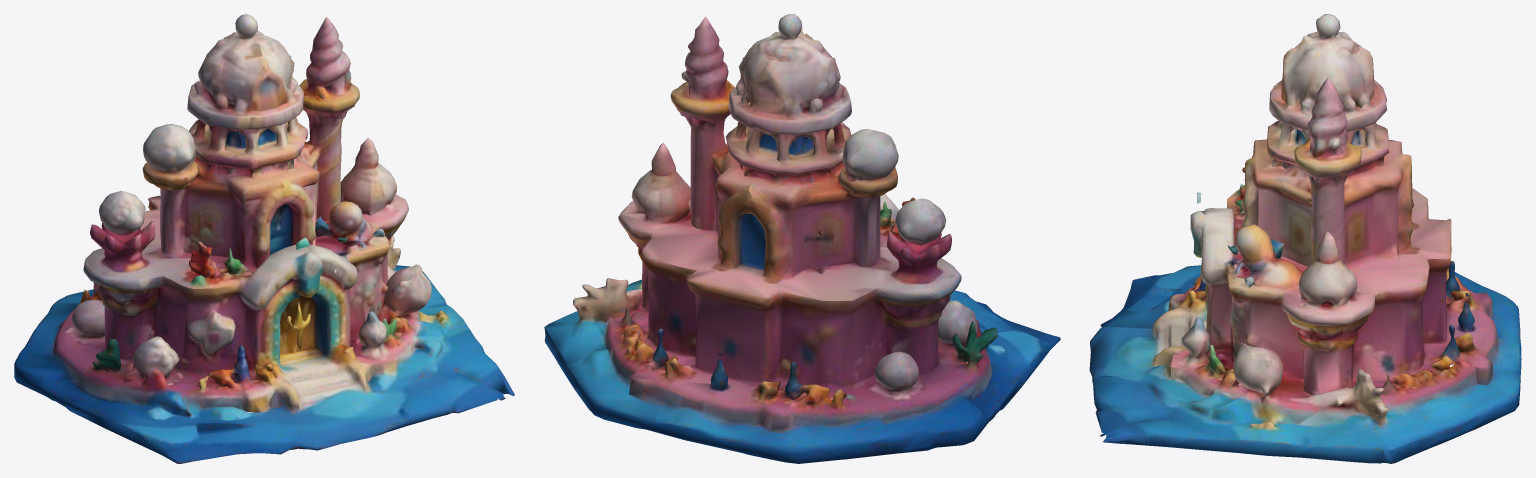
File: seapalace.glb
The picture shows the model from 3 angles, left to right: view 1: azimuth 30°, elevation 25°; view 2: azimuth 150°, elevation 25°; view 3: azimuth 270°, elevation 25°; orthographic projection. The views are drawn at different scales.
Parts seen in each view (by area): view 1: tripo_node_dd1c231c; view 2: tripo_node_dd1c231c; view 3: tripo_node_dd1c231c.
Part boxes in pixels (left/top/right/bottom): tripo_node_dd1c231c: left=14, top=14, right=514, bottom=463; tripo_node_dd1c231c: left=544, top=14, right=1060, bottom=463; tripo_node_dd1c231c: left=1089, top=14, right=1521, bottom=463.
Size of the model in its own units: 99.63 by 79.49 by 89.29.
Materials: 1 (1 with a texture image).
